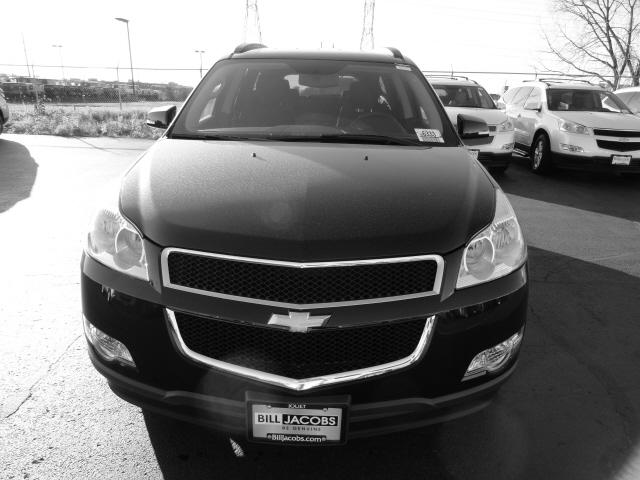car: (73, 42, 531, 462)
